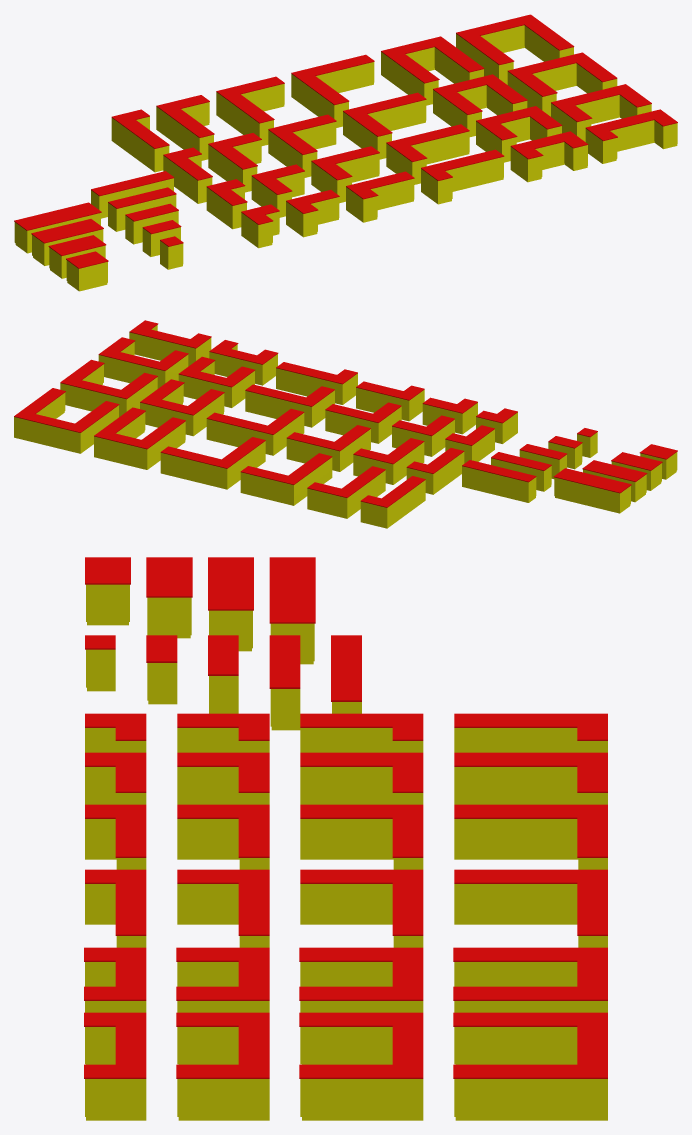
Rendered from countertops_grp.fbx.
3 renders of one model, top to bottom at view 1: azimuth 30°, elevation 25°; view 2: azimuth 150°, elevation 25°; view 3: azimuth 270°, elevation 25°, orthographic. The views are drawn at different scales.
Parts seen in each view (by area): view 1: countertop_c_10x10, countertop_c_8x10, countertop_c_10x8, countertop_l_10x10, countertop_c_8x8, countertop_l_10x8, countertop_c_10x4, countertop_c_10x6, countertop_l_8x10, countertop_l_10x6, countertop_l_10x4, countertop_l_8x8 (+21 smaller); view 2: countertop_c_10x10, countertop_c_8x10, countertop_l_10x10, countertop_c_10x8, countertop_l_8x10, countertop_c_8x8, countertop_l_10x8, countertop_c_10x6, countertop_island_10x3, countertop_l_6x10, countertop_l_10x6, countertop_l_8x8 (+21 smaller); view 3: countertop_c_10x10, countertop_c_10x8, countertop_c_8x10, countertop_c_10x6, countertop_l_10x10, countertop_l_8x10, countertop_c_8x8, countertop_l_6x10, countertop_l_10x8, countertop_l_8x8, countertop_c_10x4, countertop_l_6x8 (+21 smaller).
Part boxes in pixels (bbox=[...]): countertop_c_10x10: bbox=[456, 14, 574, 84]; countertop_c_8x10: bbox=[381, 36, 484, 105]; countertop_c_10x8: bbox=[507, 52, 617, 116]; countertop_l_10x10: bbox=[291, 54, 374, 127]; countertop_c_8x8: bbox=[433, 74, 527, 136]; countertop_l_10x8: bbox=[343, 92, 426, 159]; countertop_c_10x4: bbox=[585, 109, 677, 163]; countertop_c_10x6: bbox=[551, 84, 651, 141]; countertop_l_8x10: bbox=[216, 76, 284, 145]; countertop_l_10x6: bbox=[386, 124, 469, 184]; countertop_l_10x4: bbox=[421, 149, 504, 204]; countertop_l_8x8: bbox=[268, 114, 336, 177]; countertop_c_10x10: bbox=[14, 388, 119, 453]; countertop_c_8x10: bbox=[94, 407, 185, 469]; countertop_l_10x10: bbox=[160, 437, 265, 489]; countertop_c_10x8: bbox=[60, 359, 157, 416]; countertop_l_8x10: bbox=[240, 453, 332, 505]; countertop_c_8x8: bbox=[140, 379, 224, 436]; countertop_l_10x8: bbox=[206, 408, 304, 455]; countertop_c_10x6: bbox=[98, 337, 188, 388]; countertop_island_10x3: bbox=[553, 468, 631, 513]; countertop_l_6x10: bbox=[307, 466, 385, 518]; countertop_l_10x6: bbox=[245, 384, 334, 427]; countertop_l_8x8: bbox=[286, 425, 370, 471]; countertop_c_10x10: bbox=[453, 1012, 607, 1120]; countertop_c_10x8: bbox=[299, 1012, 423, 1120]; countertop_c_8x10: bbox=[453, 947, 607, 1012]; countertop_c_10x6: bbox=[176, 1012, 269, 1120]; countertop_l_10x10: bbox=[454, 869, 607, 947]; countertop_l_8x10: bbox=[454, 804, 607, 869]; countertop_c_8x8: bbox=[299, 947, 423, 1012]; countertop_l_6x10: bbox=[454, 752, 607, 804]; countertop_l_10x8: bbox=[300, 869, 423, 947]; countertop_l_8x8: bbox=[300, 804, 423, 869]; countertop_c_10x4: bbox=[84, 1012, 146, 1120]; countertop_l_6x8: bbox=[300, 752, 423, 804].
Bounding box in the file's own units: 2438 × 93.6 × 1038.
